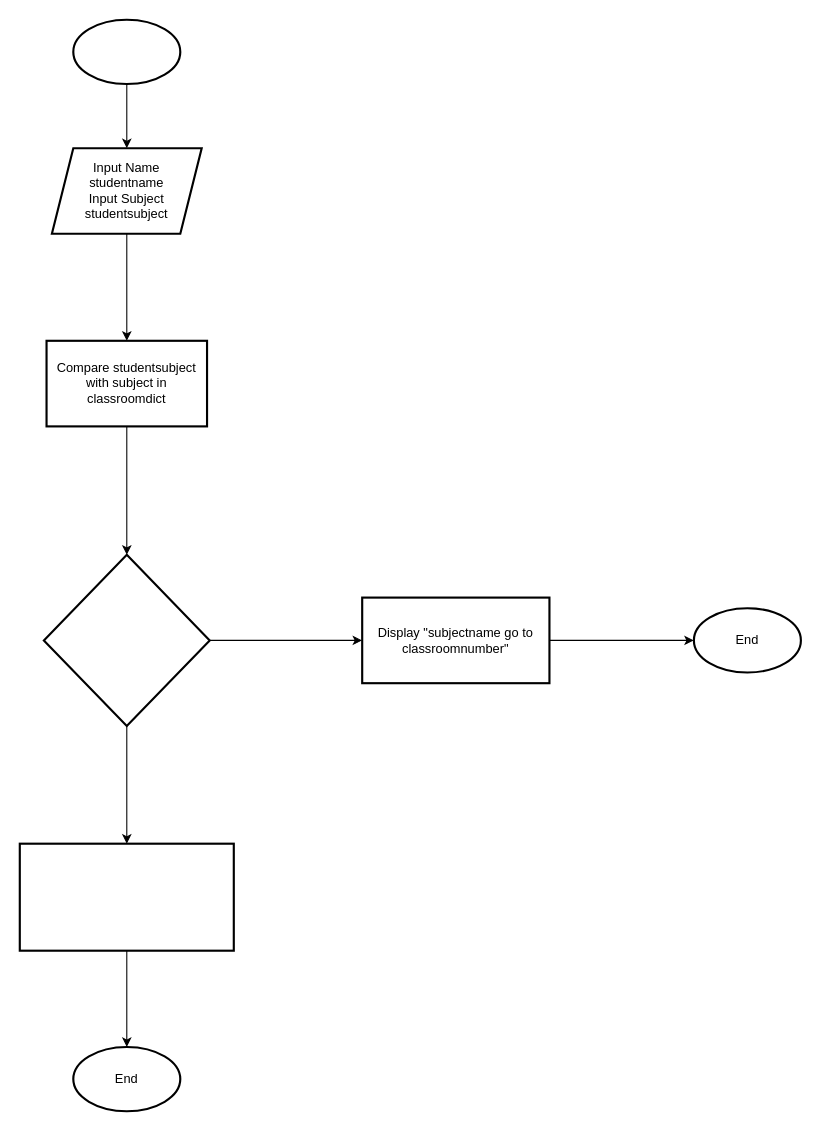
Some shapes in this 820 by 1130 pixel diagram are drawn without their labels. Each missing label, with the centre of its shape:
Display "I don't have advice for you": (x=126, y=896)
is studentsubject in classroomdict?: (x=126, y=640)
Start: (x=126, y=51)
